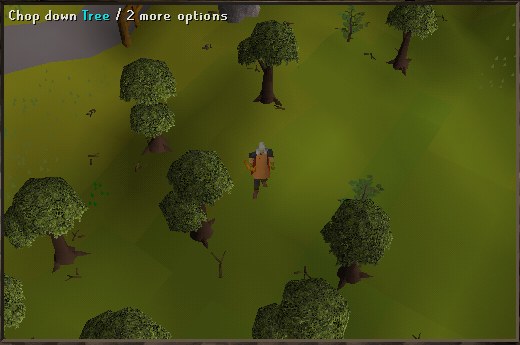Tree: (10, 178, 99, 272), (220, 19, 300, 113), (165, 157, 228, 247), (325, 200, 377, 288), (381, 0, 438, 78), (127, 54, 167, 152)
